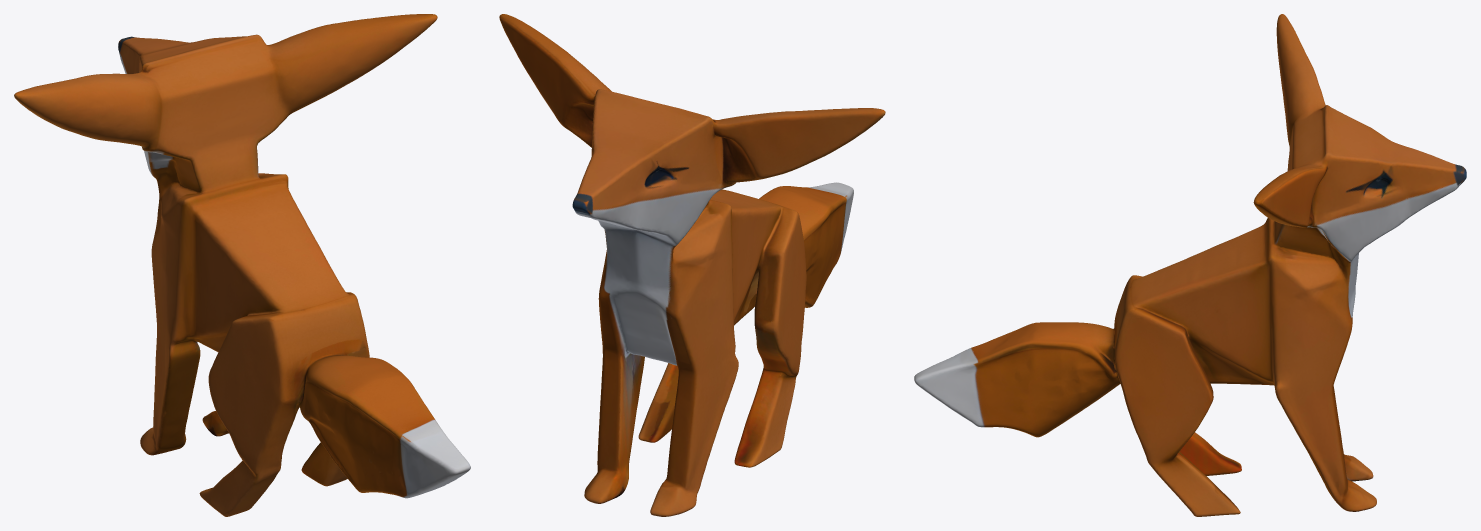
File: glb100k.glb
3 renders of one model, left to right at view 1: azimuth 30°, elevation 25°; view 2: azimuth 150°, elevation 25°; view 3: azimuth 270°, elevation 25°, orthographic. The views are drawn at different scales.
Parts seen in each view (by area): view 1: node0; view 2: node0; view 3: node0.
Boxes of the visible parts, left/top/right/bottom form: node0: left=14, top=14, right=470, bottom=516; node0: left=499, top=14, right=885, bottom=516; node0: left=914, top=14, right=1466, bottom=516.
Bounding box in the file's own units: 0.728 × 0.725 × 0.9461.
Materials: 1 (1 with a texture image).
